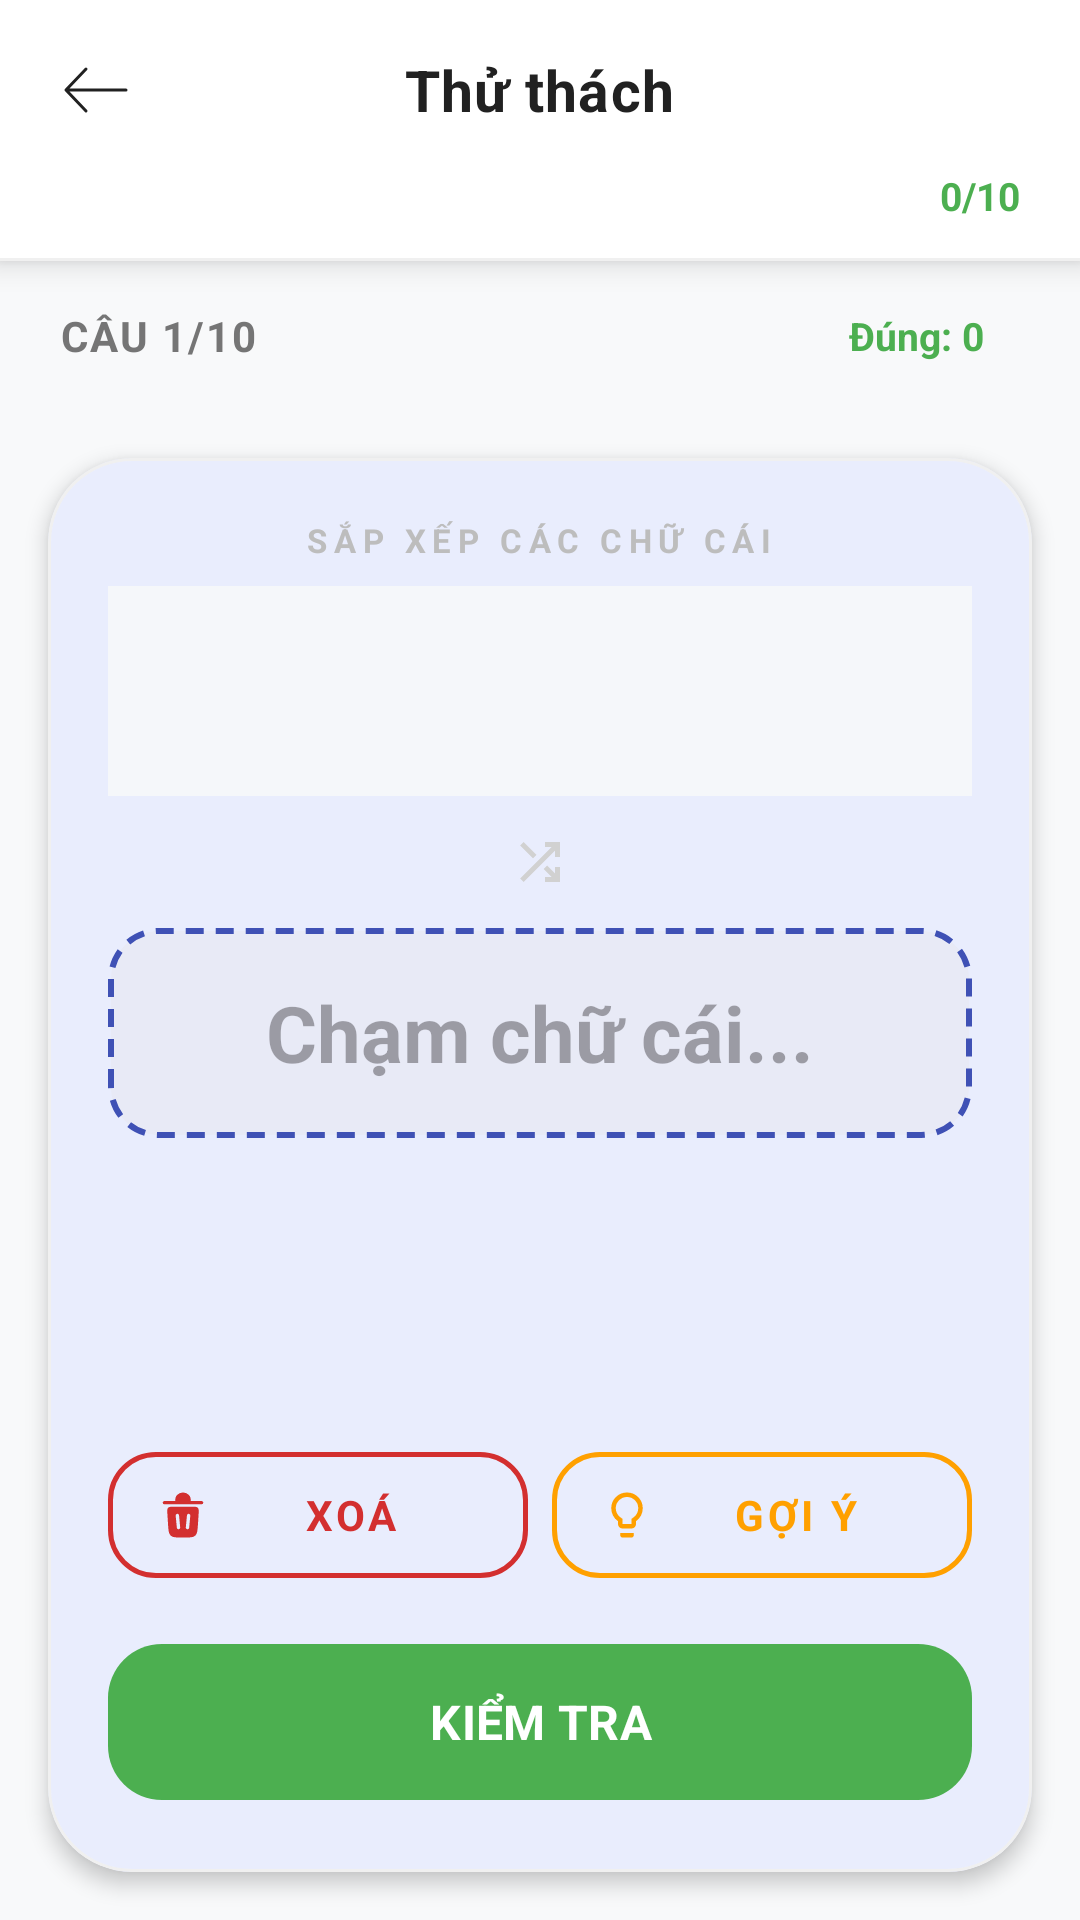

Point at icon controls on the screen. Image size 1080px×1920px, points as [x,y].
back: [96,90]
shuffle: [540,862]
